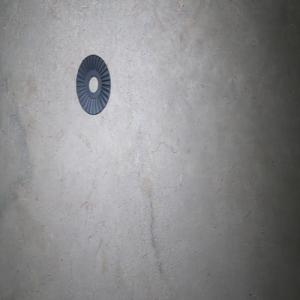Washer: (76, 54, 110, 114)
